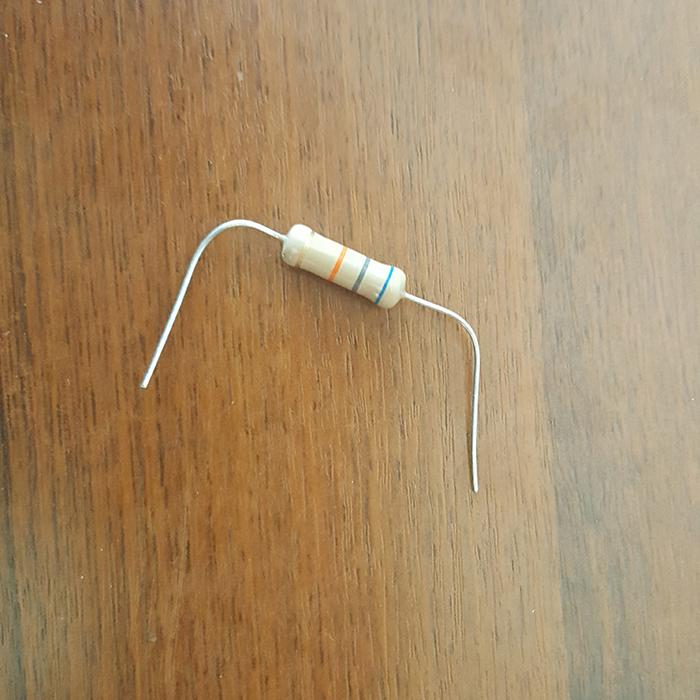resistor: (279, 224, 405, 307)
